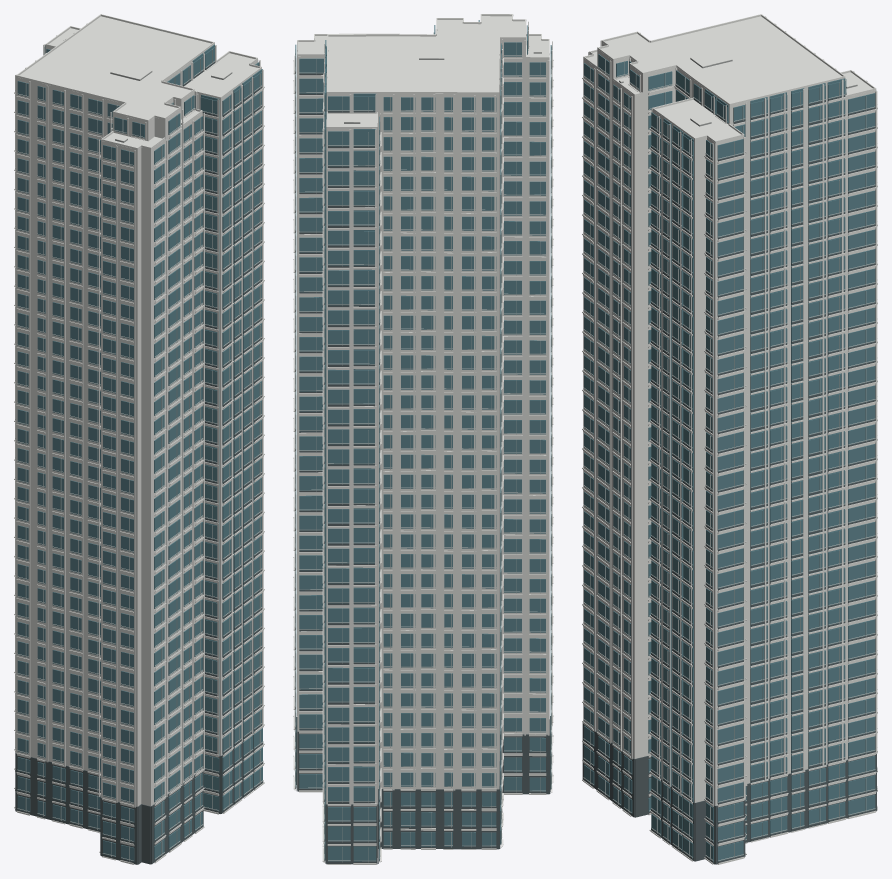
The model's file is bespoke-acro-riverpark-109-corrected.glb.
The picture shows the model from 3 angles, left to right: view 1: azimuth 30°, elevation 25°; view 2: azimuth 150°, elevation 25°; view 3: azimuth 270°, elevation 25°; orthographic projection. The views are drawn at different scales.
Parts seen in each view (by area): view 1: 109_region-0_109_Warm_pale_planes001, 109_region-0_109_Blue_grey_glazing001, 109_region-0_109_Silver_thin_mullions001, 109_region-0_109_Charcoal_lower_storeys001; view 2: 109_region-0_109_Warm_pale_planes001, 109_region-0_109_Blue_grey_glazing001, 109_region-0_109_Silver_thin_mullions001, 109_region-0_109_Charcoal_lower_storeys001; view 3: 109_region-0_109_Blue_grey_glazing001, 109_region-0_109_Warm_pale_planes001, 109_region-0_109_Silver_thin_mullions001, 109_region-0_109_Charcoal_lower_storeys001.
Boxes of the visible parts, box(x1,y1,x2,y2) form: 109_region-0_109_Warm_pale_planes001: box(14, 14, 264, 864); 109_region-0_109_Blue_grey_glazing001: box(17, 44, 262, 861); 109_region-0_109_Silver_thin_mullions001: box(15, 49, 263, 861); 109_region-0_109_Charcoal_lower_storeys001: box(15, 62, 263, 864); 109_region-0_109_Warm_pale_planes001: box(293, 14, 553, 864); 109_region-0_109_Blue_grey_glazing001: box(295, 20, 551, 861); 109_region-0_109_Silver_thin_mullions001: box(295, 26, 552, 862); 109_region-0_109_Charcoal_lower_storeys001: box(295, 71, 550, 864); 109_region-0_109_Blue_grey_glazing001: box(584, 54, 875, 861); 109_region-0_109_Warm_pale_planes001: box(582, 14, 877, 864); 109_region-0_109_Silver_thin_mullions001: box(583, 59, 877, 860); 109_region-0_109_Charcoal_lower_storeys001: box(582, 85, 877, 864).
Bounding box in the file's own units: 41.88 × 132 × 47.68.
